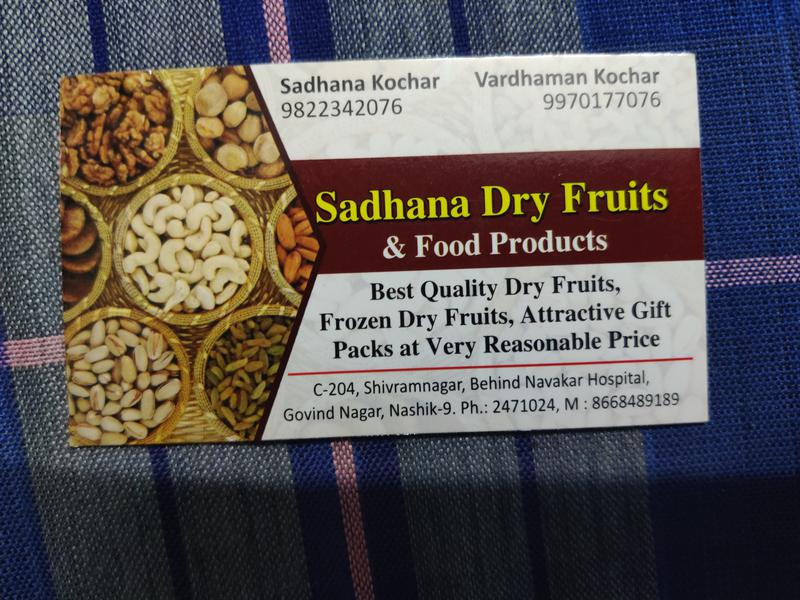card: (57, 51, 709, 449)
